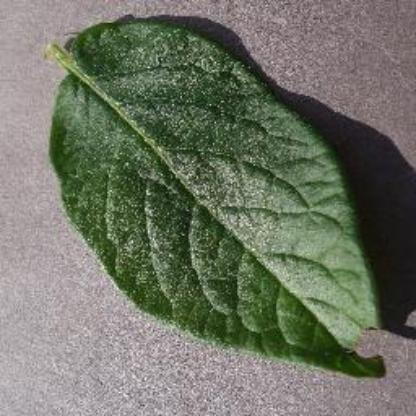Healthy-plant: (25, 20, 396, 384)
